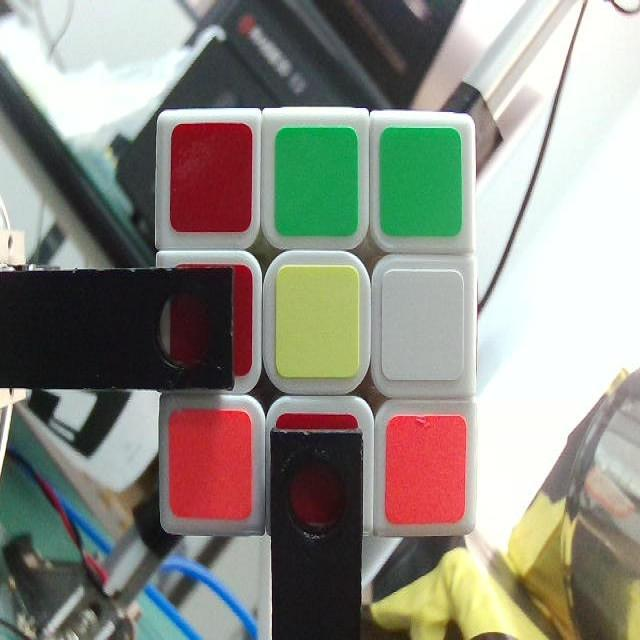g: (377, 125, 462, 239), (278, 128, 358, 233)
o: (170, 409, 252, 515), (390, 416, 464, 528)
r: (173, 264, 254, 372), (280, 416, 360, 523), (171, 126, 247, 230)
w: (385, 268, 464, 383)
y: (277, 265, 360, 376)
